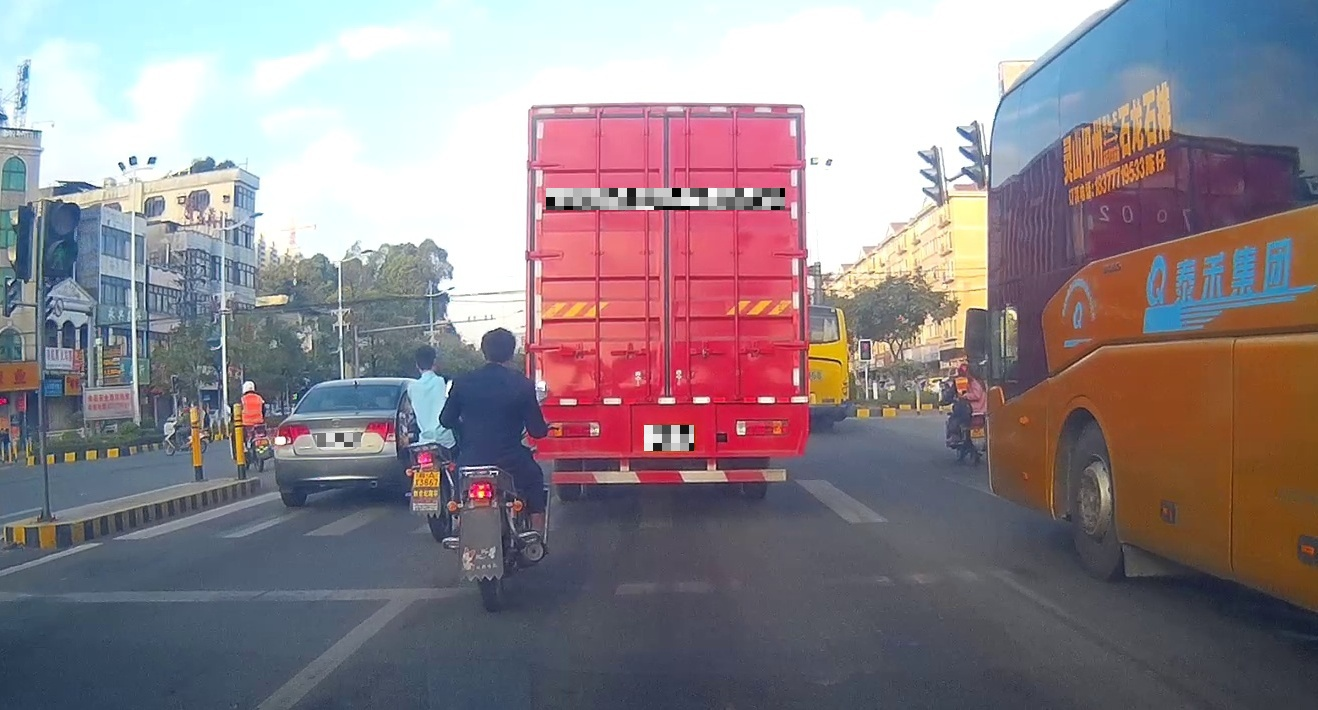L_light: (546, 421, 600, 437), (274, 424, 310, 445)
R_light: (735, 419, 789, 435), (364, 421, 396, 441)
T_light: (648, 116, 686, 126), (346, 382, 367, 388)
day-left: (273, 377, 409, 507)
day-no: (524, 102, 810, 499)
plate_1: (317, 433, 361, 447)
plate_2: (546, 188, 785, 210)
plate_3: (644, 425, 694, 451)
